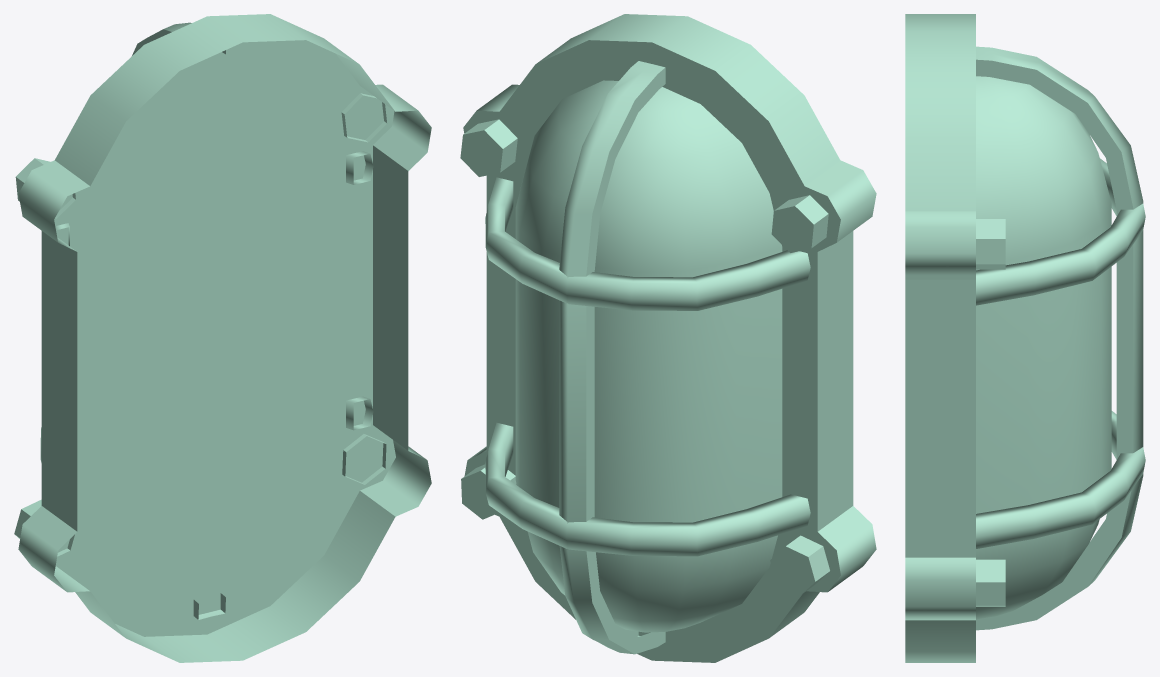
The model's file is Lamp.fbx.
3 renders of one model, left to right at view 1: azimuth 30°, elevation 25°; view 2: azimuth 150°, elevation 25°; view 3: azimuth 270°, elevation 25°, orthographic.
Visible parts, largest first — view 1: Lamp; view 2: Lamp; view 3: Lamp.
Part boxes in pixels (x1,y1,x2,y2): Lamp: [14, 14, 431, 662]; Lamp: [460, 14, 876, 662]; Lamp: [905, 14, 1145, 662].
Size of the model in its own units: 38.9 by 60.85 by 21.61.
